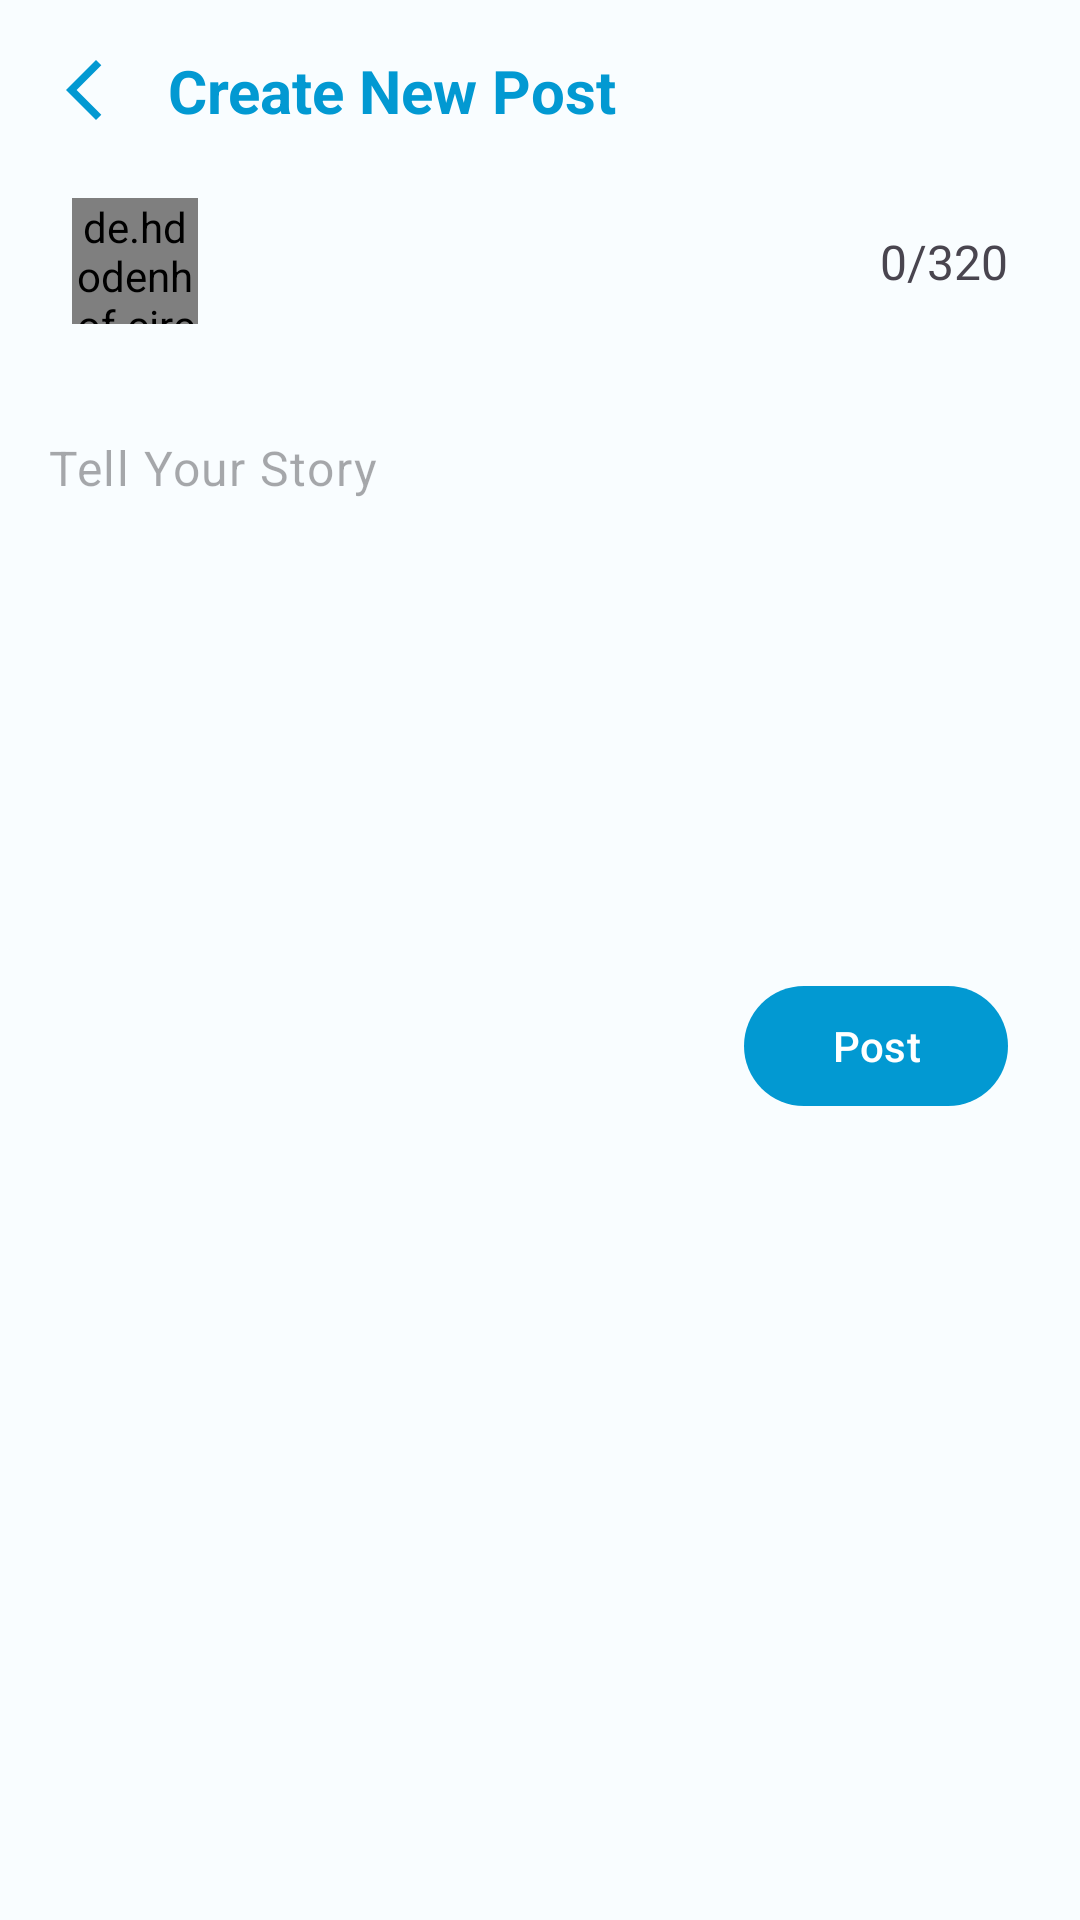

Icons on this 1080*1920 Android screen, each with the point to tap as (x,y):
Back: (83,90)
